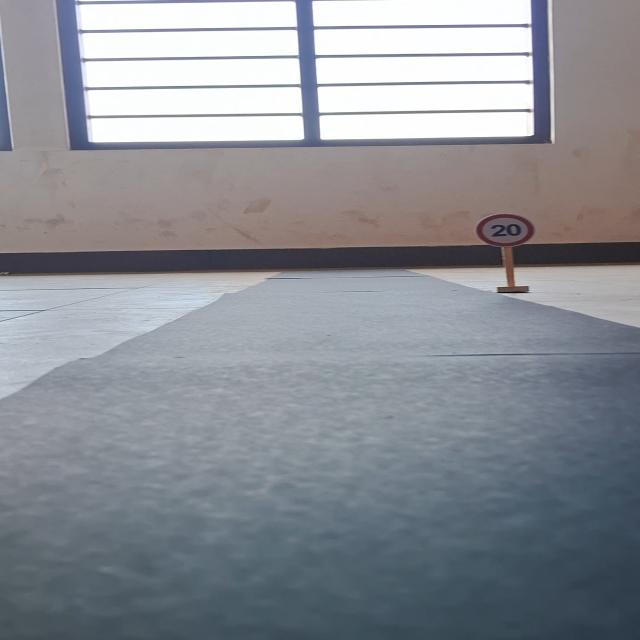Speed20: (474, 211, 542, 250)
